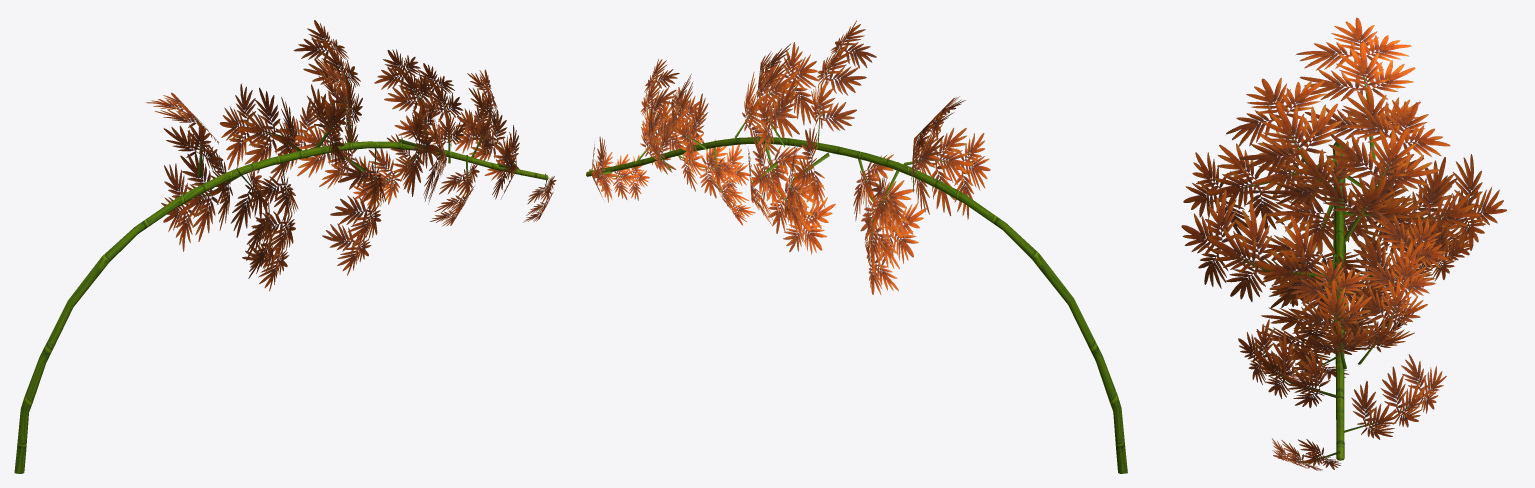
The model's file is BambooF.fbx.
3 renders of one model, left to right at view 1: azimuth 30°, elevation 25°; view 2: azimuth 150°, elevation 25°; view 3: azimuth 270°, elevation 25°, orthographic. The views are drawn at different scales.
Parts seen in each view (by area): view 1: pPlaneShape17, pPlane3; view 2: pPlaneShape17, pPlane3; view 3: pPlaneShape17, pPlane3.
Boxes of the visible parts, x1,y1,x2,y2 form: pPlaneShape17: (145,20,556,291); pPlane3: (14,141,548,473); pPlaneShape17: (589,20,990,294); pPlane3: (586,137,1127,473); pPlaneShape17: (1181,17,1506,470); pPlane3: (1332,142,1345,460).
Bounding box in the file's own units: 4.44 × 3 × 2.08.
2 materials, 2 textured.
